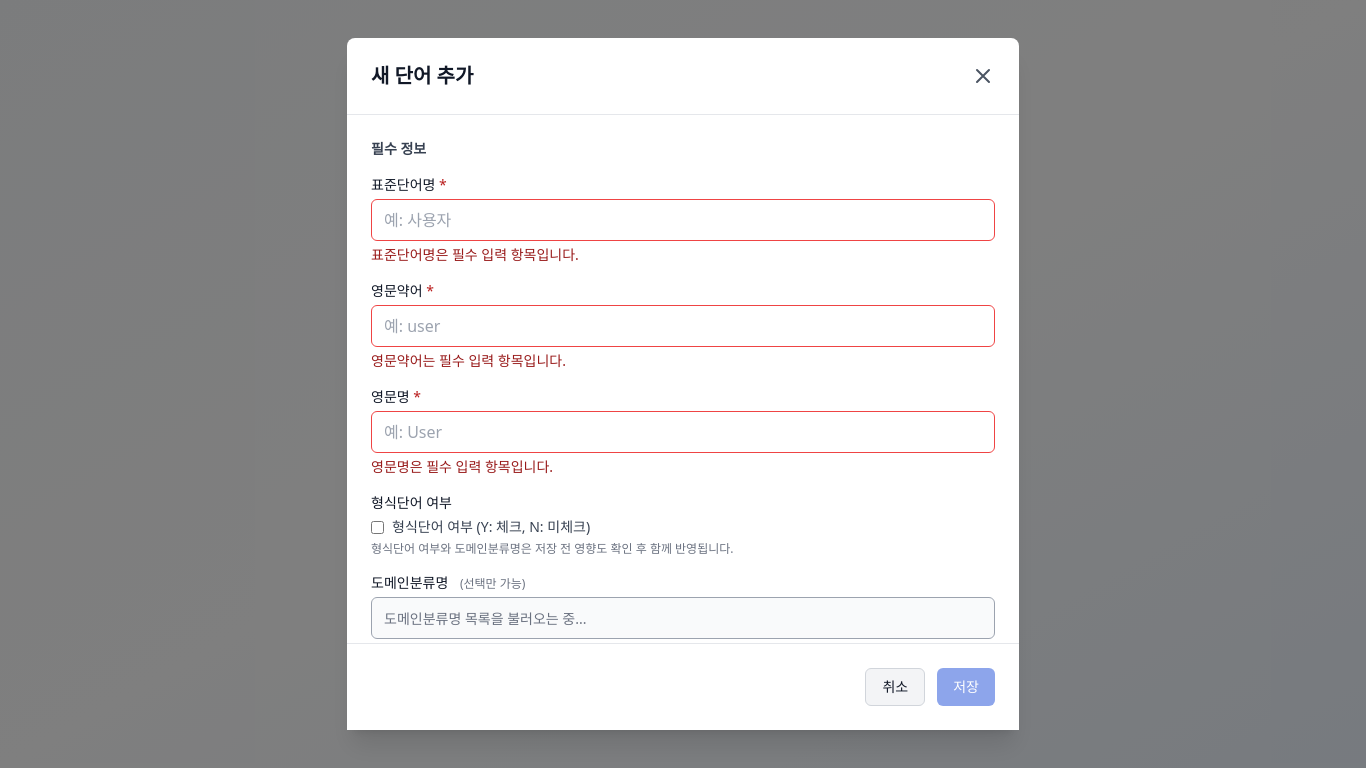
Test: VocabularyEditor › Form Validation › should enable save button when all required fields are filled
The image size is (1366, 768).
Type "테스트" into the field labelled "표준단어명 *" at [683, 220], box [371,199,995,241]
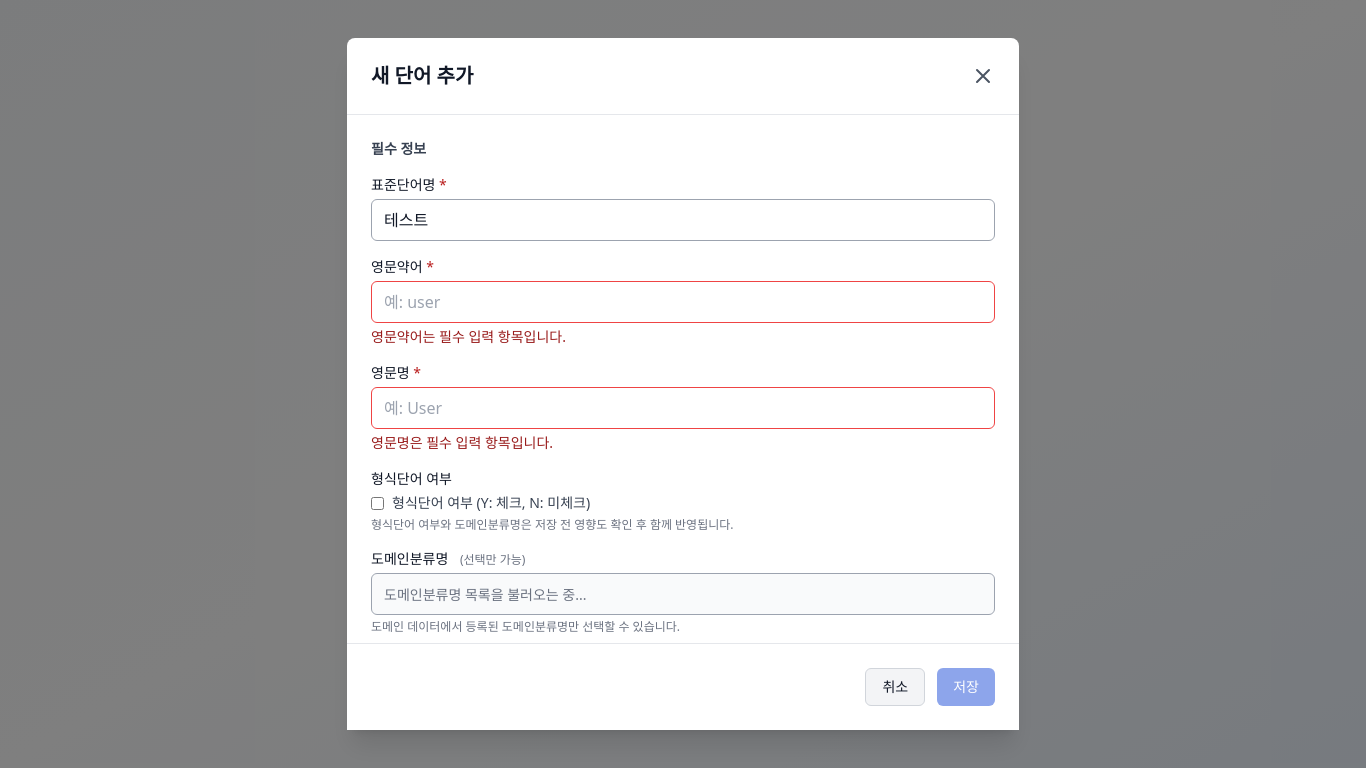
Type "TEST" into the field labelled "영문약어 *" at [683, 302], box [371,281,995,323]
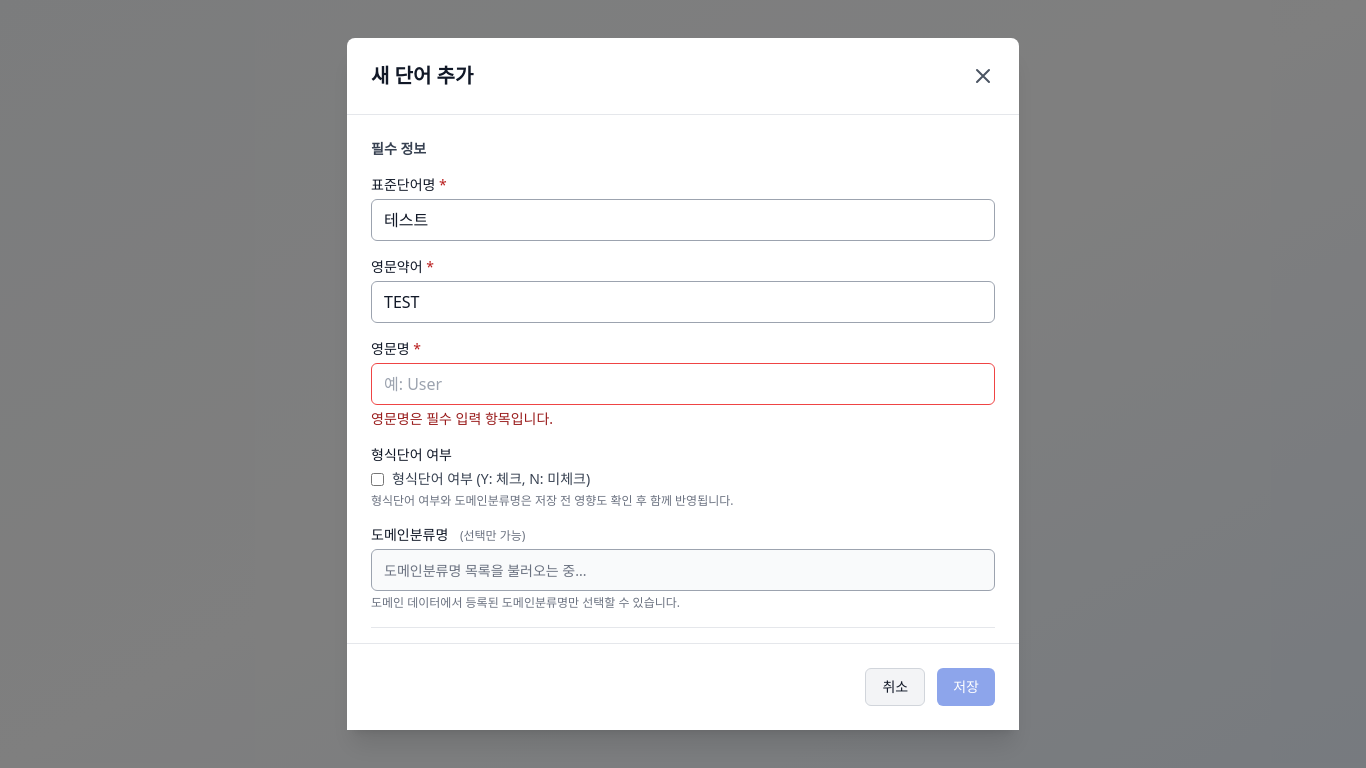
Type "Test" into the field labelled "영문명 *" at [683, 384], box [371,363,995,405]
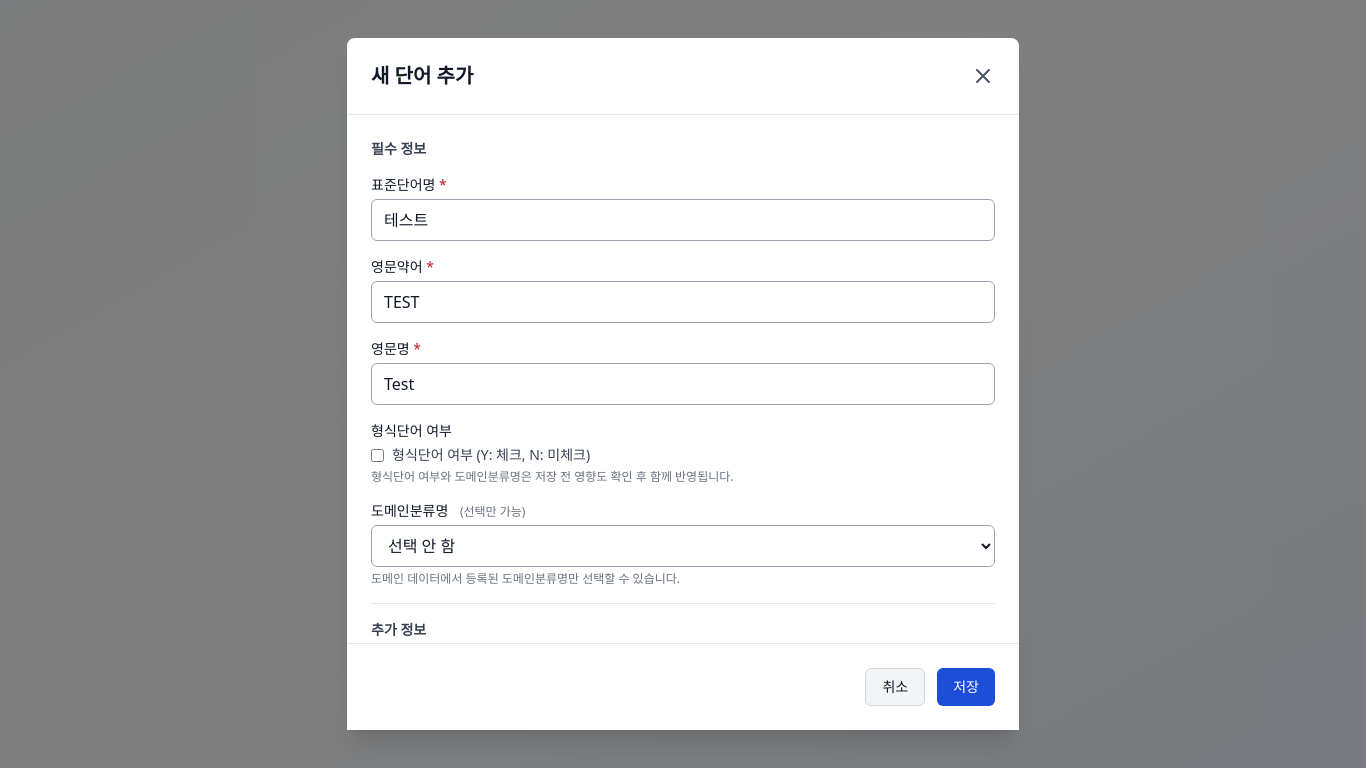
Expected: the button "저장" is enabled, [937,668,995,706]
